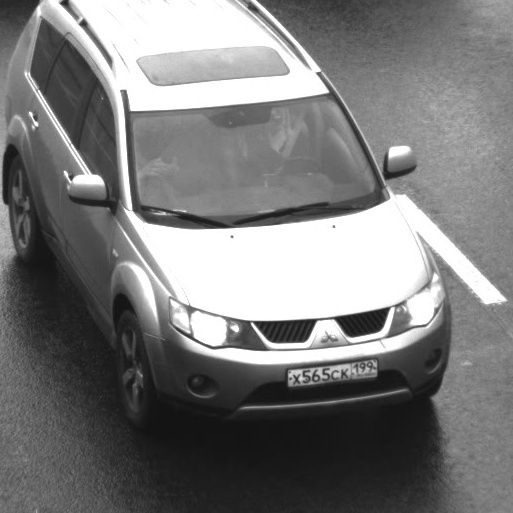plate: (276, 347, 387, 394)
